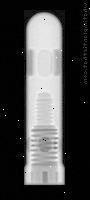Camlog: (22, 10, 65, 185)
